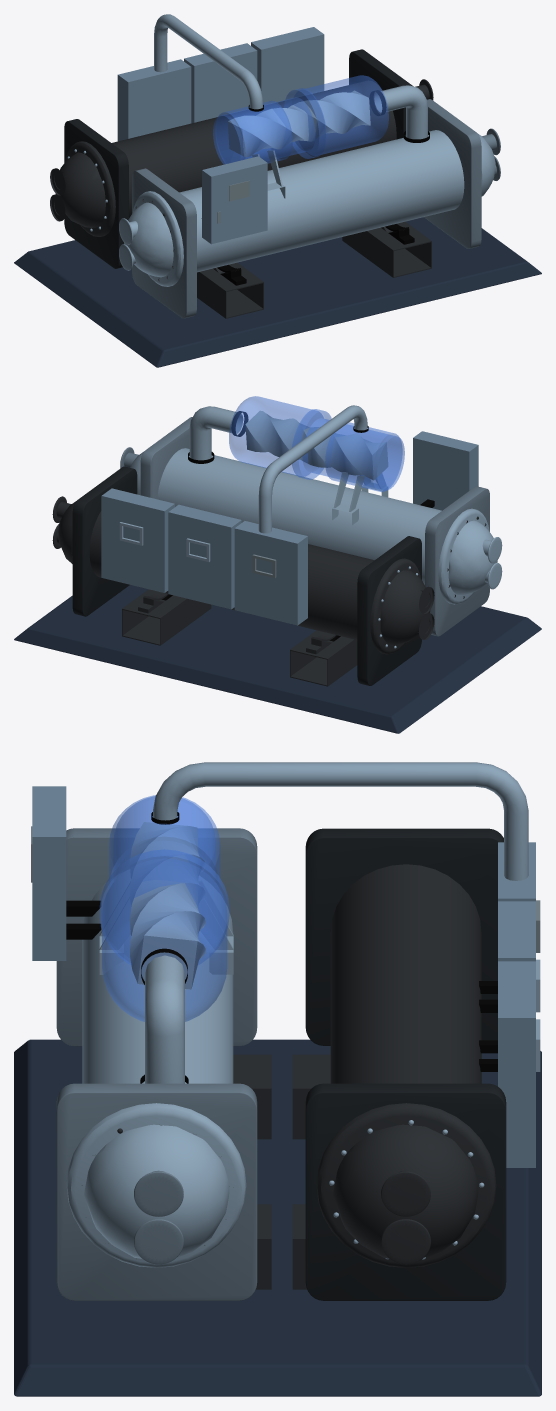
The model's file is 螺杆机.glb.
The picture shows the model from 3 angles, top to bottom: view 1: azimuth 30°, elevation 25°; view 2: azimuth 150°, elevation 25°; view 3: azimuth 270°, elevation 25°; orthographic projection. The views are drawn at different scales.
Parts seen in each view (by area): view 1: 立方体408, 柱体476, 柱体477, 立方体446, 柱体428, 柱体430, 立方体407, 立方体435, 立方体442, 立方体426, 立方体436, 柱体431 (+13 smaller); view 2: 立方体408, 柱体476, 立方体407, 立方体442, 立方体381, 柱体477, 立方体446, 柱体430, 柱体428, 立方体435, 立方体441, 柱体431 (+13 smaller); view 3: 立方体408, 柱体477, 立方体441, 立方体426, 立方体440, 柱体428, 柱体476, 立方体436, 球体031, 球体033, 平面030, 立方体446 (+20 smaller).
Boxes of the visible parts, x1=… form: 立方体408: x1=14, y1=217, x2=541, y2=367; 柱体476: x1=179, y1=130, x2=464, y2=272; 柱体477: x1=112, y1=80, x2=396, y2=218; 立方体446: x1=227, y1=90, x2=370, y2=157; 柱体428: x1=294, y1=75, x2=388, y2=155; 柱体430: x1=213, y1=97, x2=315, y2=164; 立方体407: x1=117, y1=59, x2=191, y2=141; 立方体435: x1=202, y1=156, x2=267, y2=244; 立方体442: x1=251, y1=27, x2=324, y2=105; 立方体426: x1=424, y1=99, x2=481, y2=248; 立方体436: x1=132, y1=168, x2=196, y2=318; 柱体431: x1=215, y1=100, x2=292, y2=163; 立方体408: x1=14, y1=585, x2=541, y2=733; 柱体476: x1=157, y1=448, x2=441, y2=584; 立方体407: x1=234, y1=521, x2=307, y2=625; 立方体442: x1=101, y1=488, x2=174, y2=592; 立方体381: x1=168, y1=504, x2=241, y2=609; 柱体477: x1=89, y1=511, x2=374, y2=639; 立方体446: x1=245, y1=410, x2=388, y2=480; 柱体430: x1=302, y1=418, x2=404, y2=490; 柱体428: x1=229, y1=396, x2=323, y2=476; 立方体435: x1=413, y1=431, x2=478, y2=510; 立方体441: x1=72, y1=466, x2=137, y2=616; 柱体431: x1=325, y1=422, x2=402, y2=492; 立方体408: x1=14, y1=1039, x2=541, y2=1396; 柱体477: x1=330, y1=864, x2=481, y2=1083; 立方体441: x1=305, y1=1083, x2=506, y2=1300; 立方体426: x1=56, y1=1083, x2=257, y2=1300; 立方体440: x1=305, y1=828, x2=503, y2=1045; 柱体428: x1=102, y1=859, x2=227, y2=1021; 柱体476: x1=82, y1=869, x2=233, y2=1083; 立方体436: x1=56, y1=828, x2=257, y2=1046; 球体031: x1=84, y1=1124, x2=229, y2=1258; 球体033: x1=333, y1=1124, x2=478, y2=1258; 平面030: x1=153, y1=762, x2=528, y2=880; 立方体446: x1=129, y1=822, x2=205, y2=989.
Size of the model in its own units: 147 by 82.08 by 94.9.
